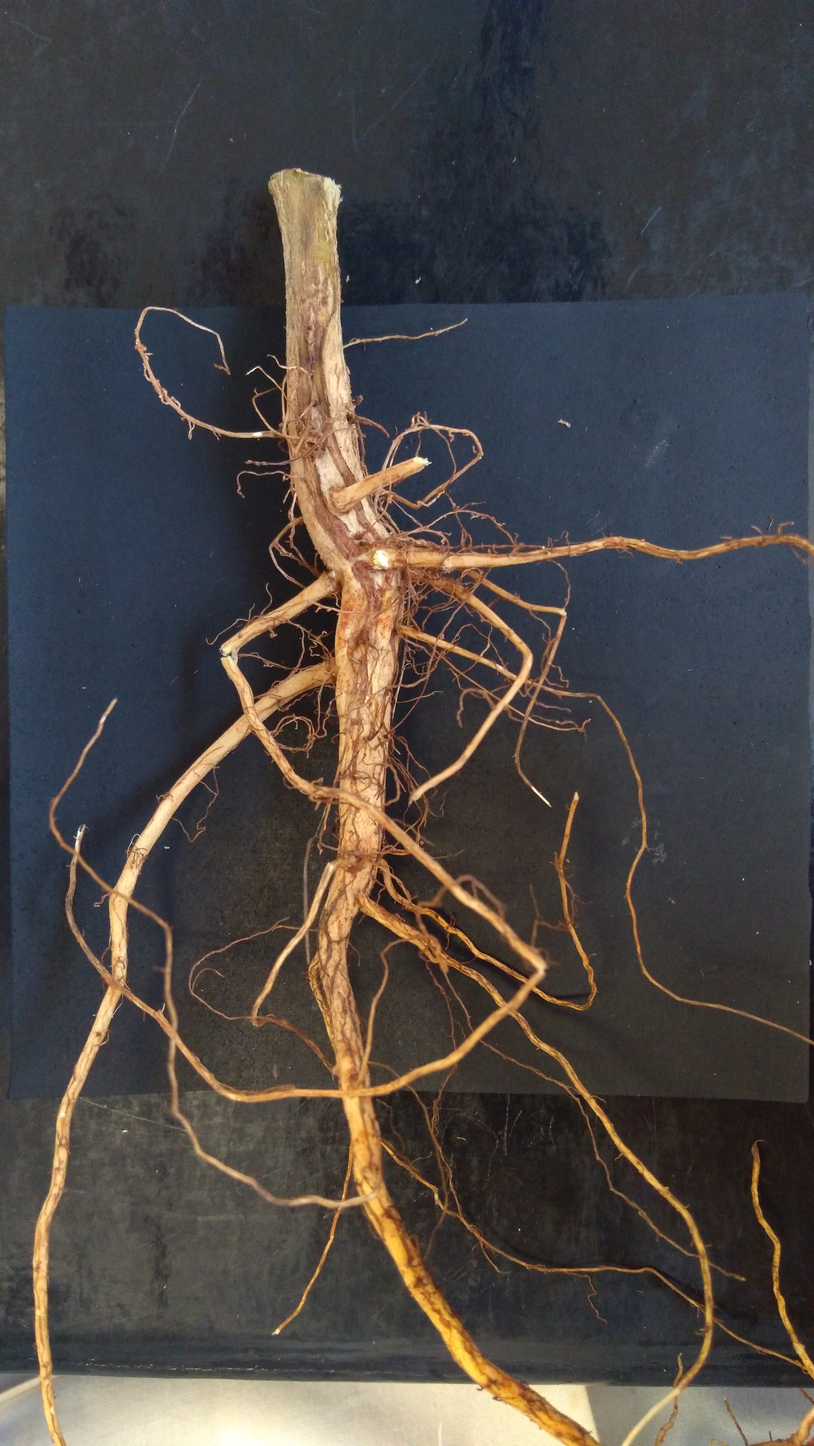nodule: (303, 429, 325, 458), (331, 1055, 358, 1078), (269, 632, 278, 638), (439, 633, 445, 641), (462, 432, 470, 437), (278, 423, 284, 428)
